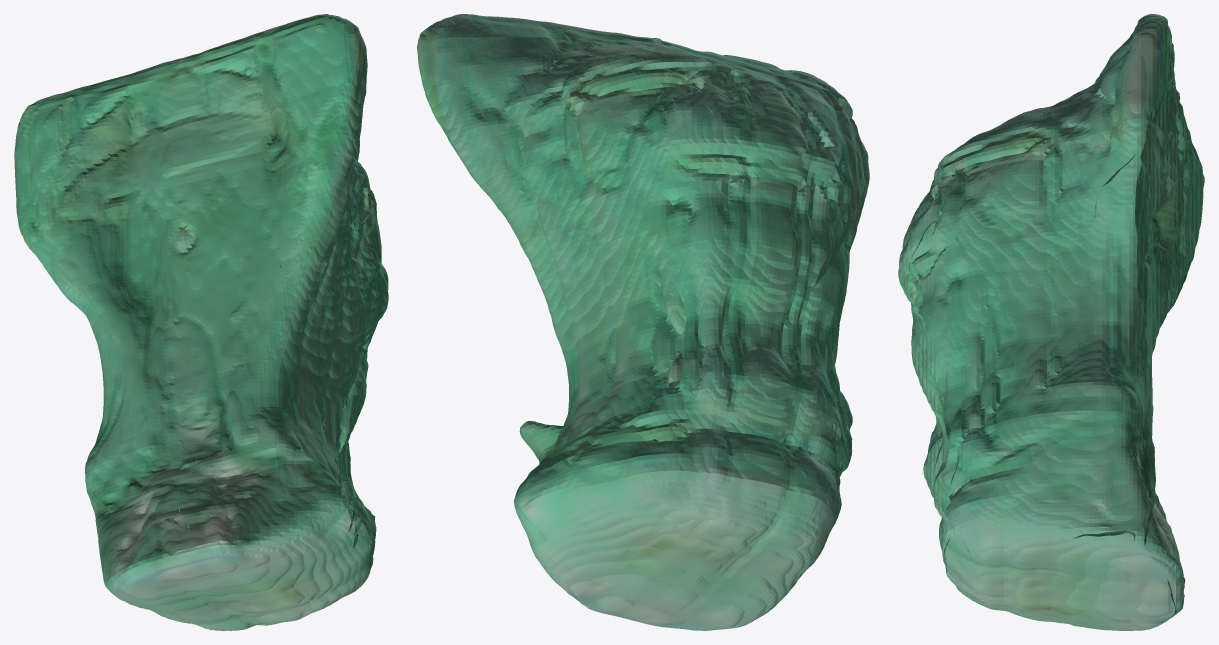
3 renders of one model, left to right at view 1: azimuth 30°, elevation 25°; view 2: azimuth 150°, elevation 25°; view 3: azimuth 270°, elevation 25°, orthographic. The views are drawn at different scales.
Visible parts, largest first — view 1: geometry_0; view 2: geometry_0; view 3: geometry_0.
Part boxes in pixels (<box>): geometry_0: <box>14,14,388,630</box>; geometry_0: <box>417,14,869,630</box>; geometry_0: <box>898,14,1204,630</box>.
Size of the model in its own units: 1.2 by 1.6 by 0.8627.
